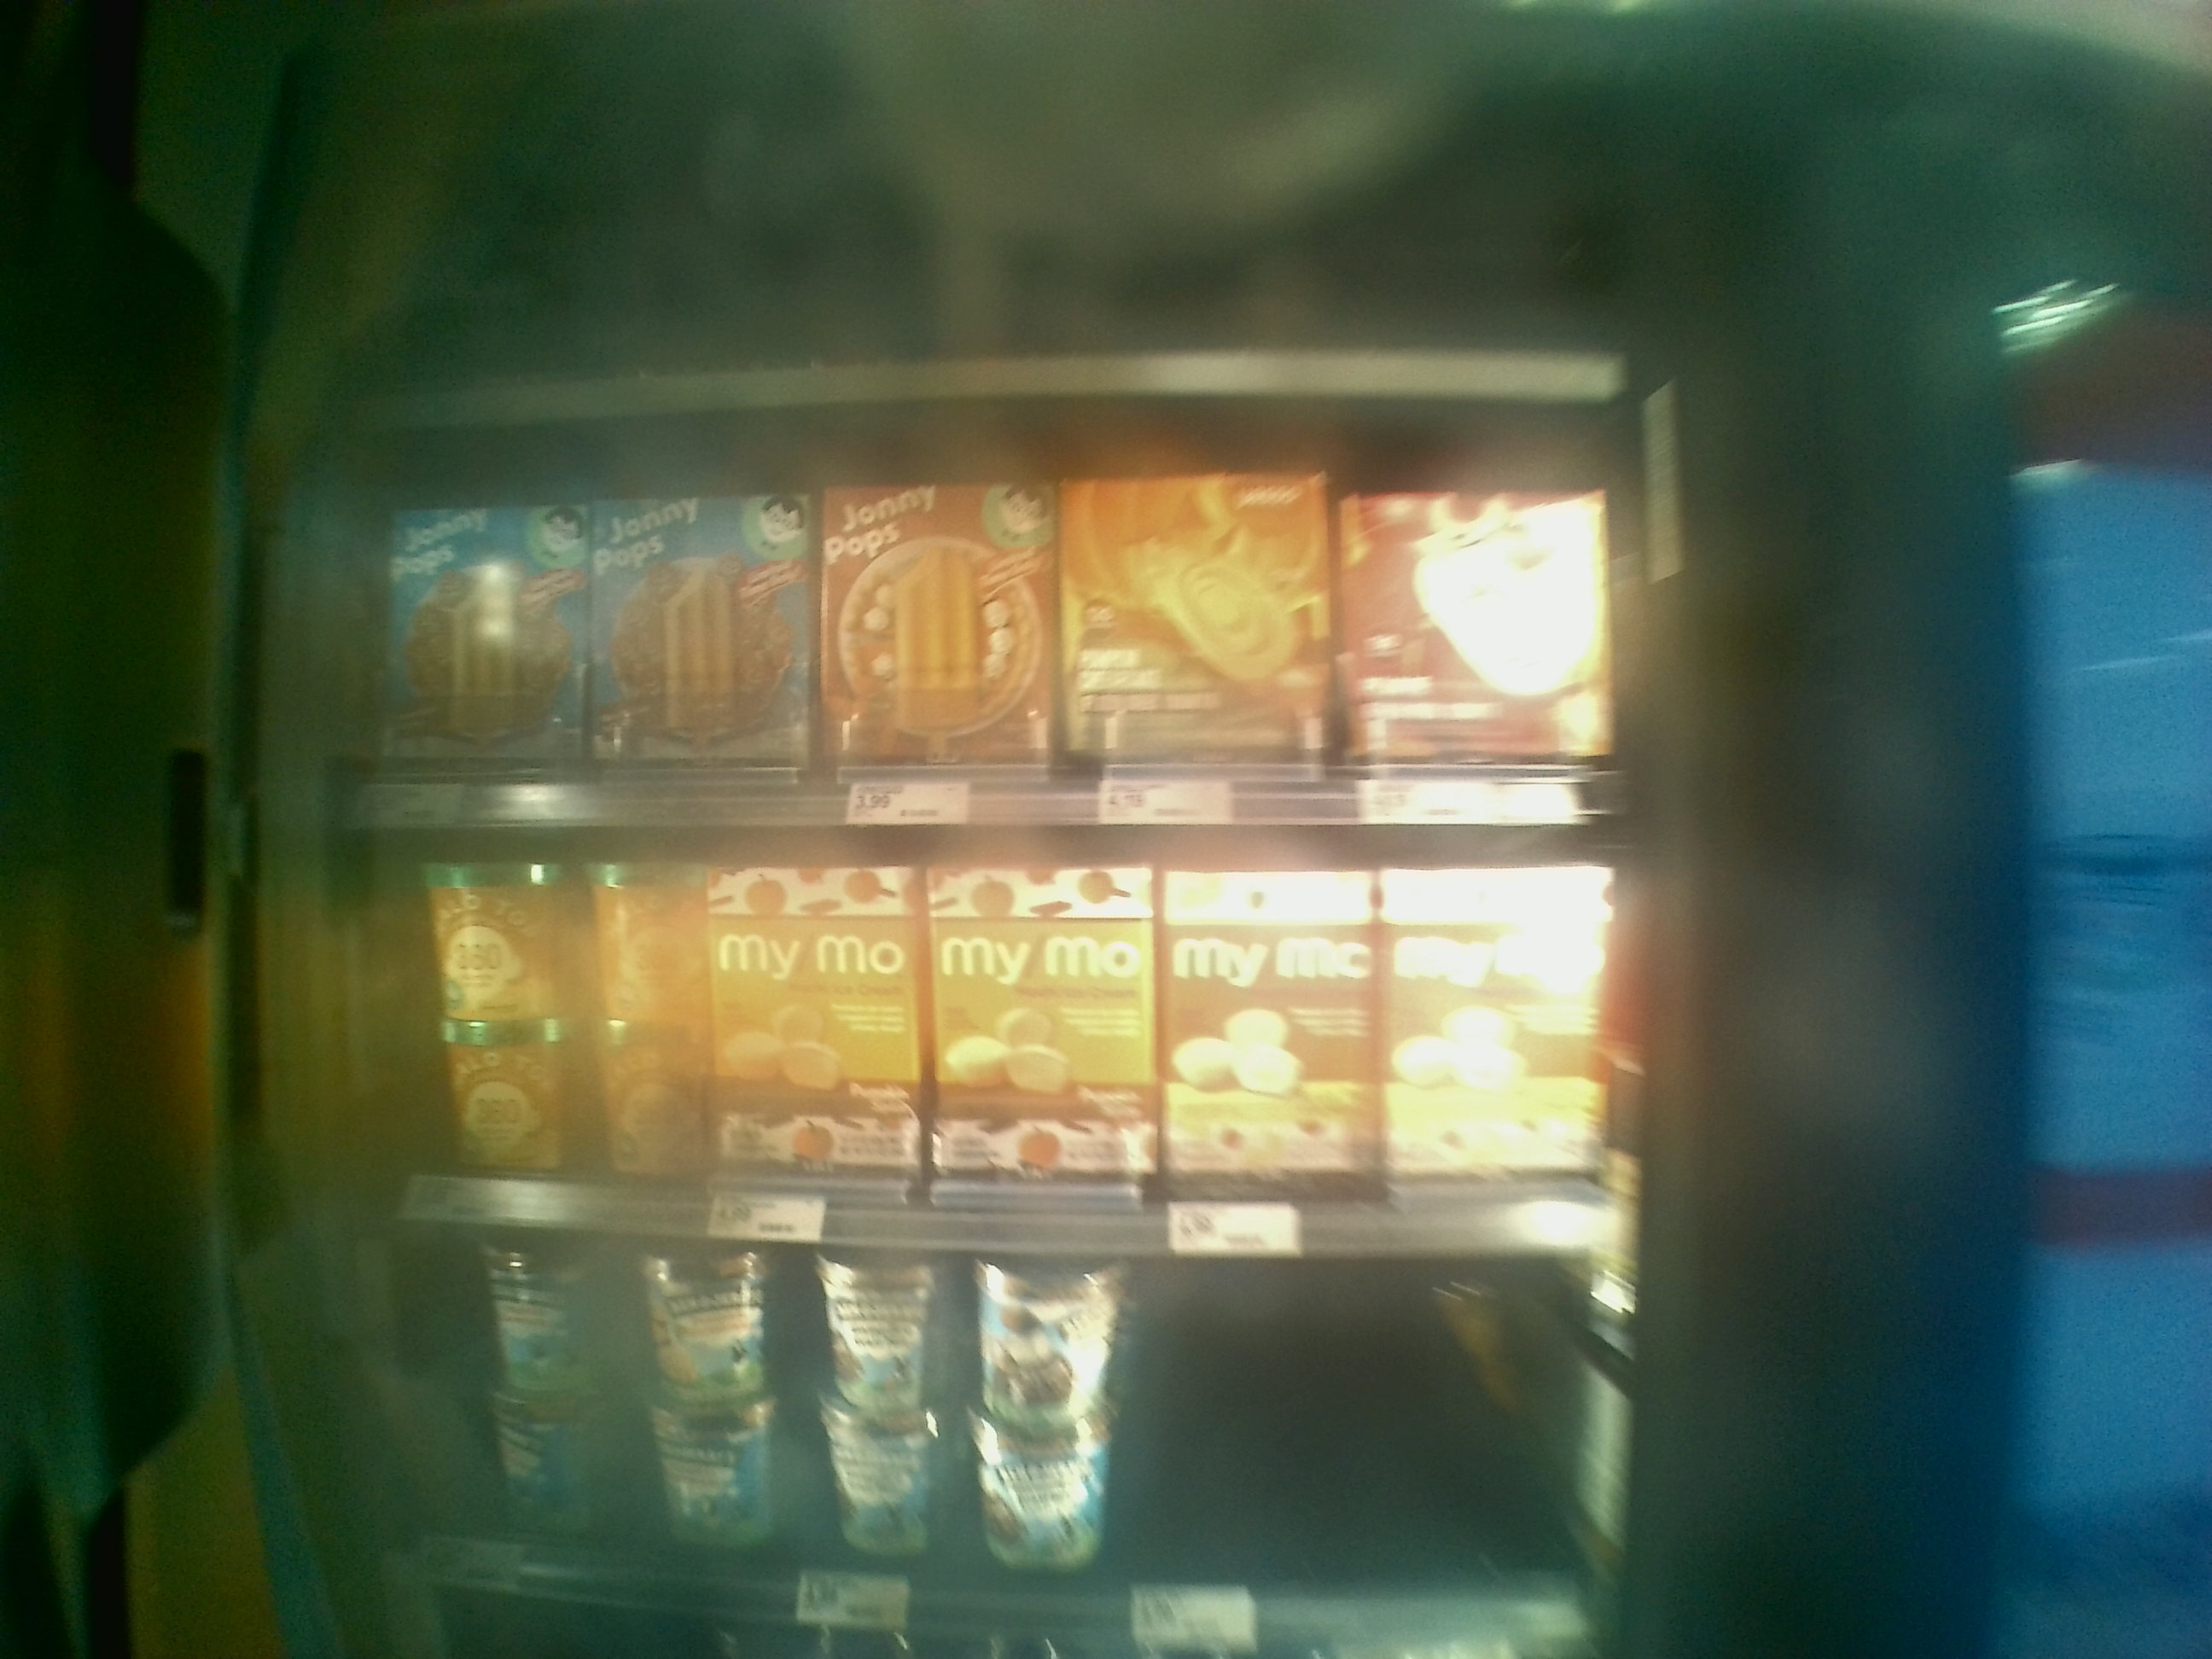shelf: (322, 817, 1658, 1276), (322, 429, 1663, 835)
